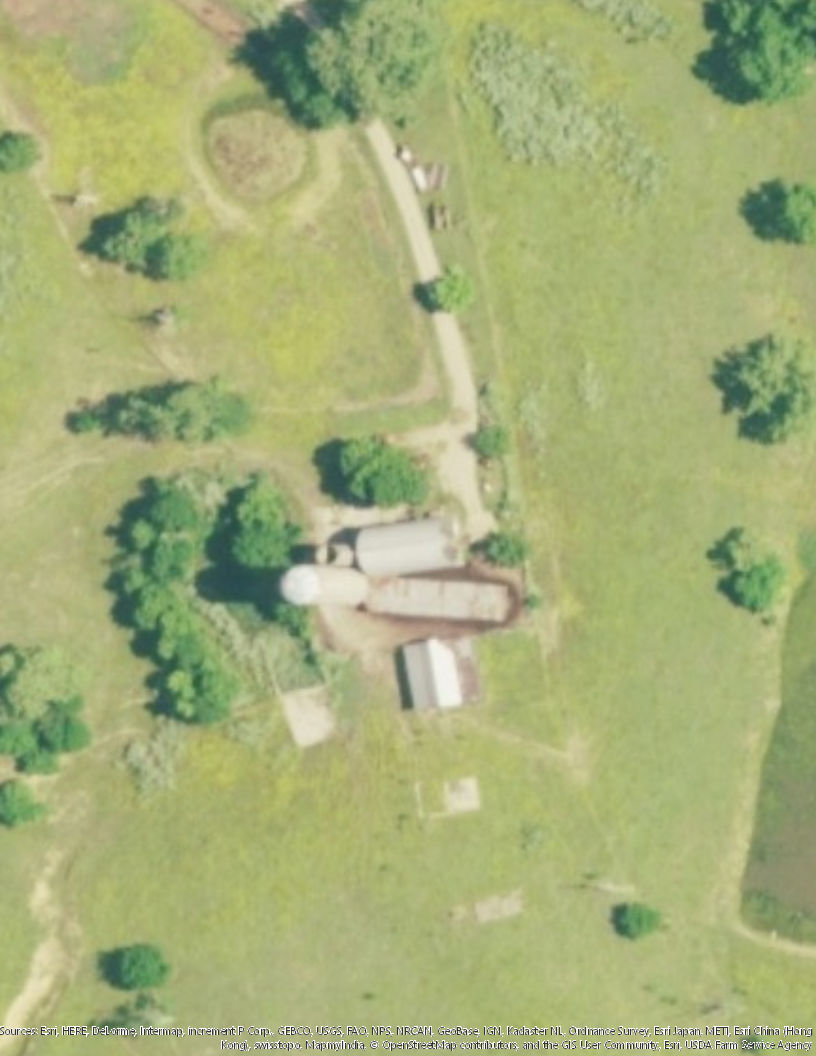cafo: (299, 522, 523, 626)
